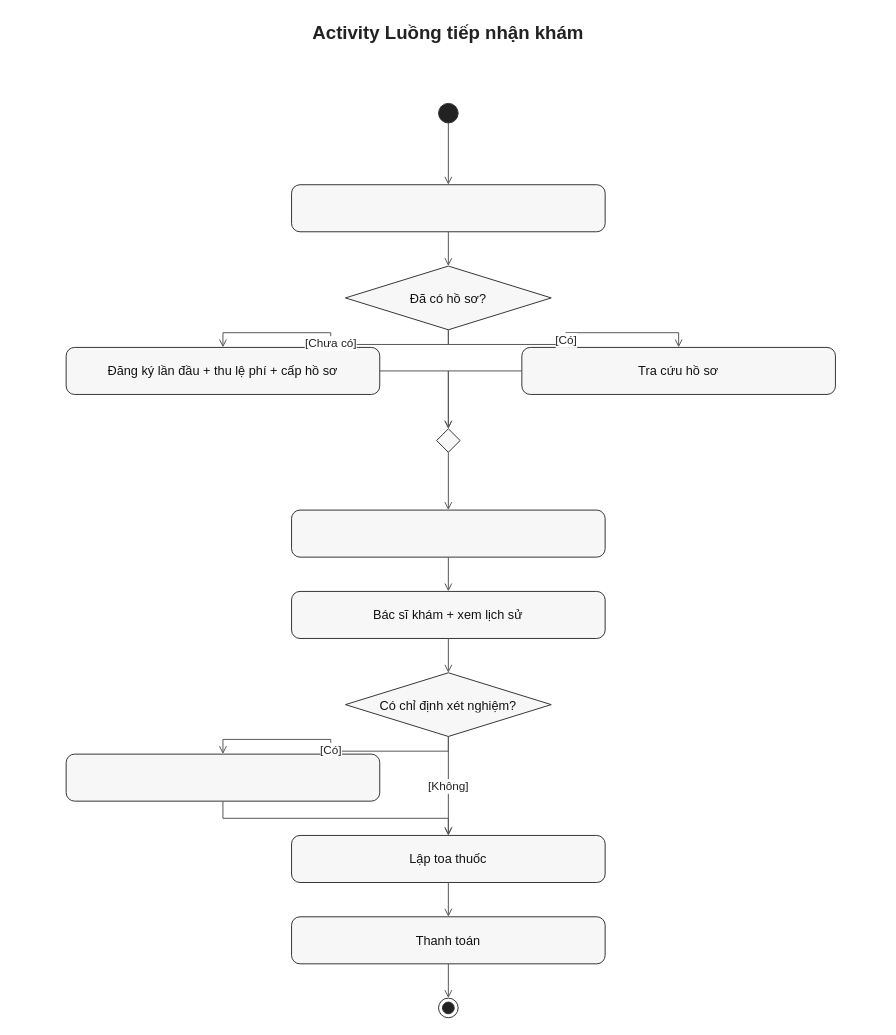
Image size: 896x1035. Some labels were removed from this diagram. Each missing label, with the box of its shape:
Lập phiếu khám: (291, 509, 605, 557)
Tiếp nhận yêu cầu khám: (291, 184, 605, 232)
Xét nghiệm + trả kết quả: (65, 753, 380, 801)
